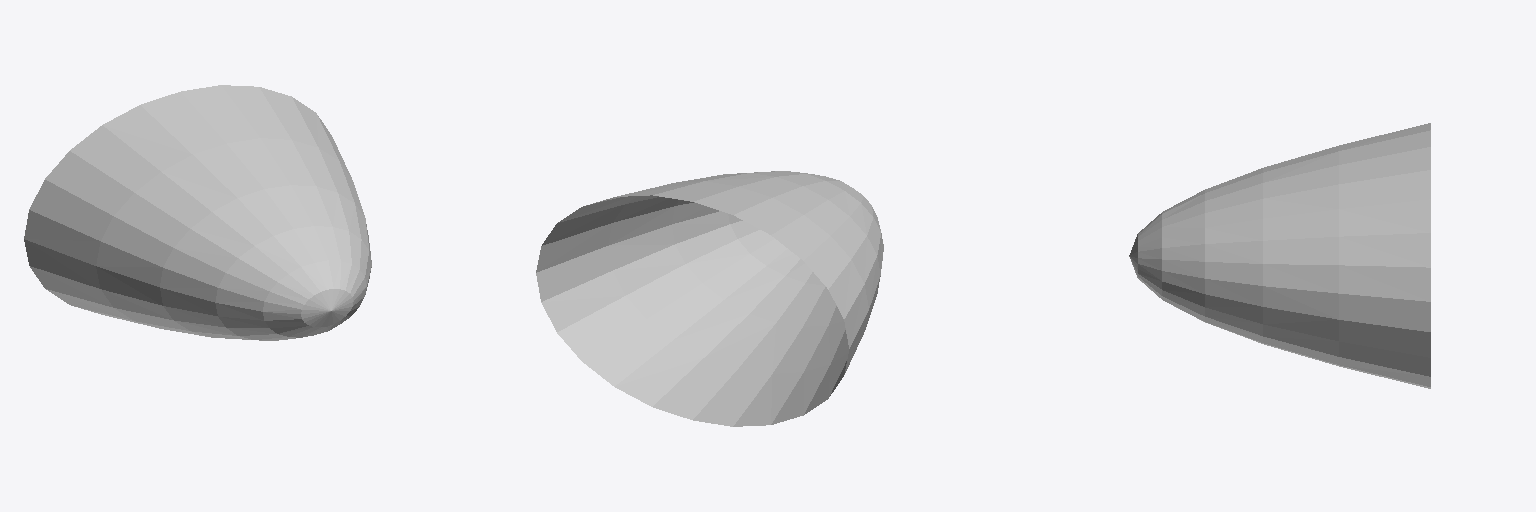
The model's file is parabell.obj.
3 views of the same model, side by side, from view 1: azimuth 30°, elevation 25°; view 2: azimuth 150°, elevation 25°; view 3: azimuth 270°, elevation 25° (orthographic).
Visible parts, largest first — view 1: parabell_parabell.006, parabell.001_parabell.007; view 2: parabell_parabell.006, parabell.001_parabell.007; view 3: parabell_parabell.006, parabell.001_parabell.007.
Boxes of the visible parts, x1=… form: parabell_parabell.006: x1=24, y1=85, x2=371, y2=340; parabell.001_parabell.007: x1=24, y1=85, x2=371, y2=340; parabell_parabell.006: x1=536, y1=171, x2=883, y2=426; parabell.001_parabell.007: x1=537, y1=171, x2=882, y2=426; parabell_parabell.006: x1=1129, y1=123, x2=1430, y2=387; parabell.001_parabell.007: x1=1130, y1=124, x2=1430, y2=388.
Size of the model in its own units: 4.8 by 3.2 by 4.